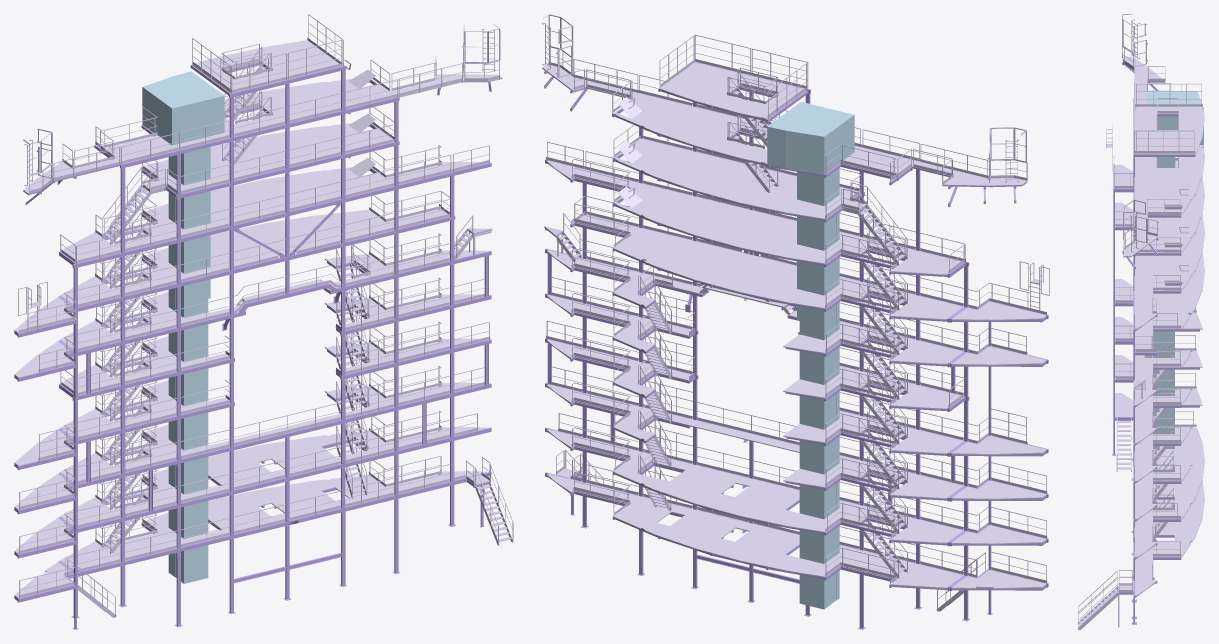
The model's file is ho-side-c-platforms.glb.
The picture shows the model from 3 angles, left to right: view 1: azimuth 30°, elevation 25°; view 2: azimuth 150°, elevation 25°; view 3: azimuth 270°, elevation 25°; orthographic projection. The views are drawn at different scales.
Parts seen in each view (by area): view 1: _00000241E9D1E770_IndexedFaceSet, _00000241A93F9C90_IndexedFaceSet, _00000241E9D19220_IndexedFaceSet, _00000241E9D19A00_IndexedFaceSet; view 2: _00000241E9D1E770_IndexedFaceSet, _00000241A93F9C90_IndexedFaceSet, _00000241E9D19220_IndexedFaceSet, _00000241E9D19A00_IndexedFaceSet; view 3: _00000241E9D1E770_IndexedFaceSet, _00000241A93F9C90_IndexedFaceSet, _00000241E9D19220_IndexedFaceSet, _00000241E9D19A00_IndexedFaceSet.
Boxes of the visible parts, x1,y1,x2,y2 form: _00000241E9D1E770_IndexedFaceSet: [14, 40, 502, 598]; _00000241A93F9C90_IndexedFaceSet: [18, 14, 513, 617]; _00000241E9D19220_IndexedFaceSet: [14, 41, 491, 629]; _00000241E9D19A00_IndexedFaceSet: [142, 71, 224, 583]; _00000241E9D1E770_IndexedFaceSet: [542, 62, 1046, 588]; _00000241A93F9C90_IndexedFaceSet: [542, 14, 1049, 611]; _00000241E9D19220_IndexedFaceSet: [544, 61, 1048, 629]; _00000241E9D19A00_IndexedFaceSet: [767, 102, 854, 609]; _00000241E9D1E770_IndexedFaceSet: [1115, 56, 1204, 595]; _00000241A93F9C90_IndexedFaceSet: [1078, 14, 1202, 629]; _00000241E9D19220_IndexedFaceSet: [1112, 62, 1203, 627]; _00000241E9D19A00_IndexedFaceSet: [1146, 91, 1203, 510].
Size of the model in its own units: 29.04 by 30.9 by 7.55.
